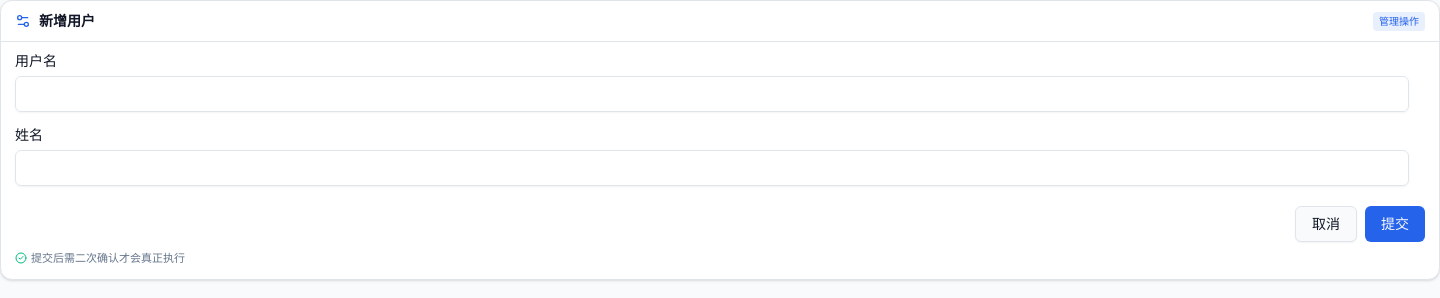
Test: manage_form 卡（受控管理操作） › 提交 → POST /manage/submit {actionCode,values,targetId} → 换 confirm 卡
Click the button "提交" at (1395, 224), box [1365, 206, 1425, 242]
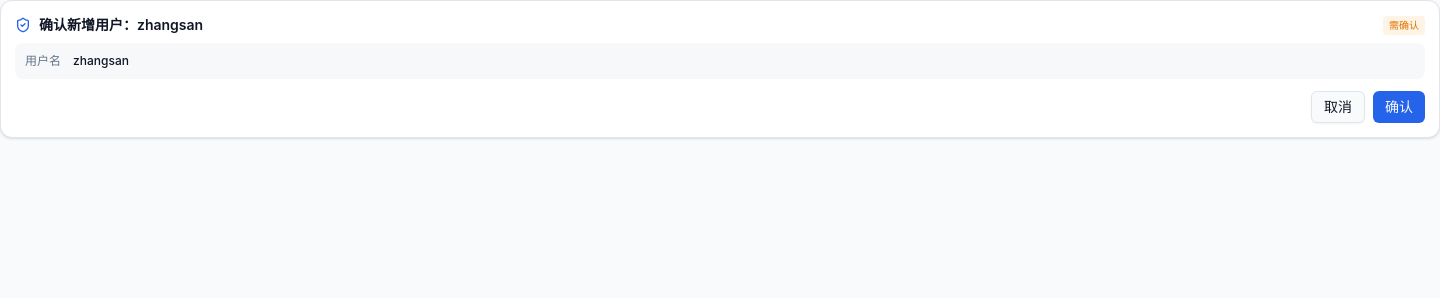
Check: the text "确认新增用户：zhangsan" is shown, box [39, 16, 203, 33]
Check: the text "需确认" is shown, box [1383, 16, 1425, 34]
Check: the button "确认" is shown, box [1373, 91, 1425, 123]
